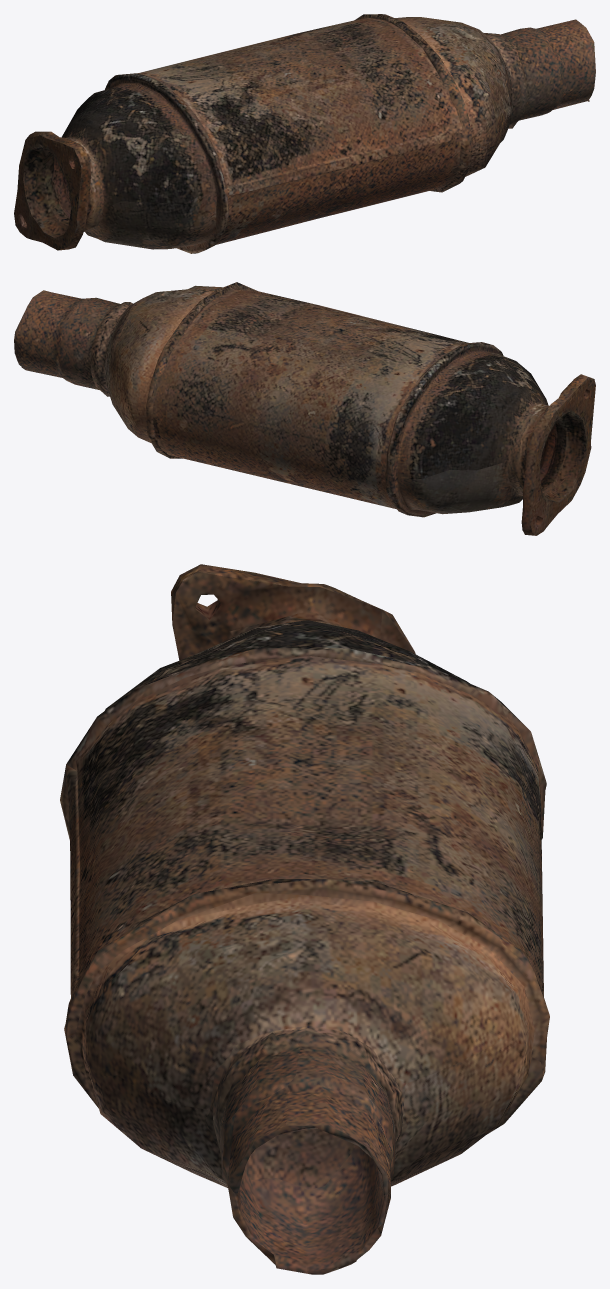
File: SM_Ind_Jun_Exhaust_Metal_Rusty_01.gltf
The picture shows the model from 3 angles, top to bottom: view 1: azimuth 30°, elevation 25°; view 2: azimuth 150°, elevation 25°; view 3: azimuth 270°, elevation 25°; orthographic projection. The views are drawn at different scales.
Visible parts, largest first — view 1: SM_Ind_Jun_Exhaust_Metal_Rusty_01; view 2: SM_Ind_Jun_Exhaust_Metal_Rusty_01; view 3: SM_Ind_Jun_Exhaust_Metal_Rusty_01.
Part boxes in pixels (x1,y1,x2,y2): SM_Ind_Jun_Exhaust_Metal_Rusty_01: [14, 14, 595, 253]; SM_Ind_Jun_Exhaust_Metal_Rusty_01: [14, 282, 595, 535]; SM_Ind_Jun_Exhaust_Metal_Rusty_01: [60, 564, 549, 1274].
Bounding box in the file's own units: 0.4246 × 0.1163 × 0.1702.
1 material, 1 textured.
